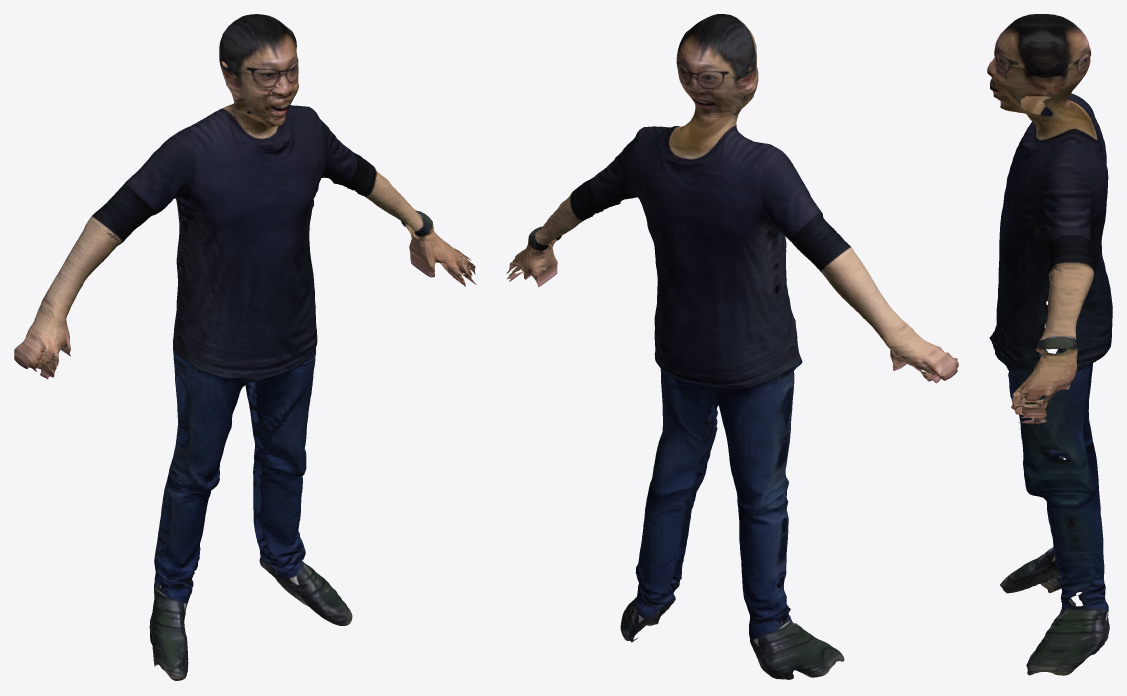
The picture shows the model from 3 angles, left to right: view 1: azimuth 30°, elevation 25°; view 2: azimuth 150°, elevation 25°; view 3: azimuth 270°, elevation 25°; orthographic projection.
Visible parts, largest first — view 1: result_huma_256; view 2: result_huma_256; view 3: result_huma_256.
Part boxes in pixels (x1,y1,x2,y2): result_huma_256: (14, 14, 476, 680); result_huma_256: (506, 14, 958, 679); result_huma_256: (987, 14, 1112, 675).
Size of the model in its own units: 137 by 187 by 33.77.
